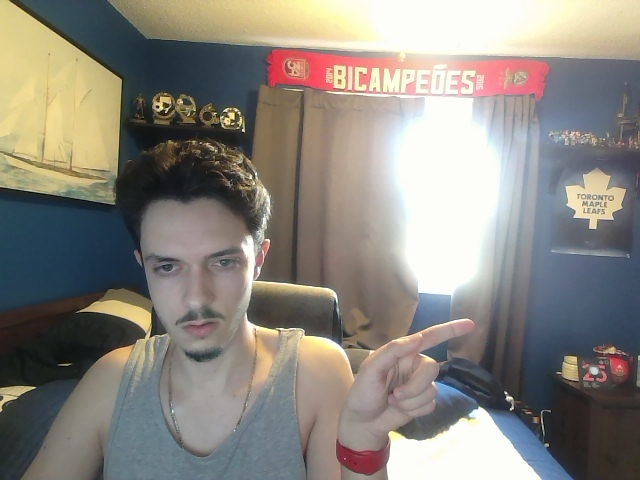Left: (337, 319, 476, 444)
